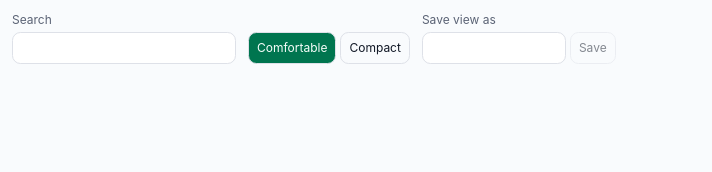
Scenario: a saved view can be applied and deleted, and Save is disabled until it has a name
In the search field labelled "Search": [124, 48] box x1=12 y1=32 x2=236 y2=64, type "milk"
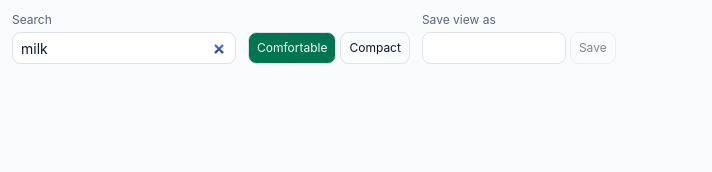
In the field labelled "Save view as": [494, 48] box x1=422 y1=32 x2=566 y2=64, type "Dairy"
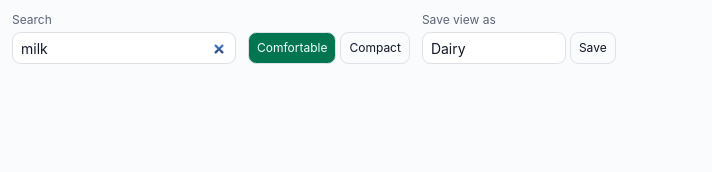
Click the button "Save": [593, 48] box x1=570 y1=32 x2=616 y2=64
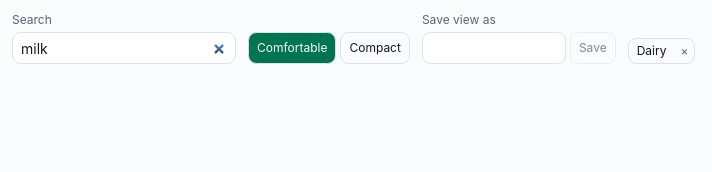
Clear the search field labelled "Search": [124, 48] box x1=12 y1=32 x2=236 y2=64
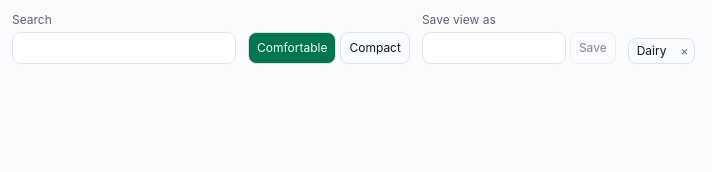
Click the button "Dairy": [652, 51] box x1=629 y1=39 x2=674 y2=63
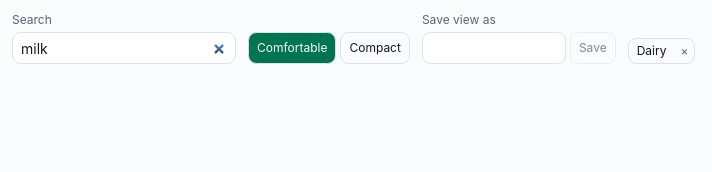
Click the button named "Delete view Dairy": [684, 51] box x1=674 y1=39 x2=694 y2=63
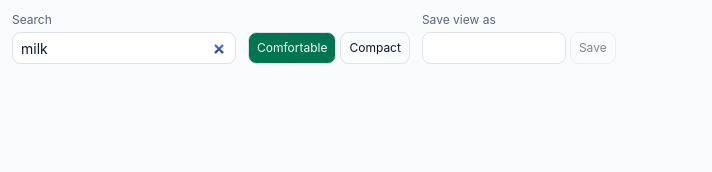
Expected: the button "Dairy" is gone
